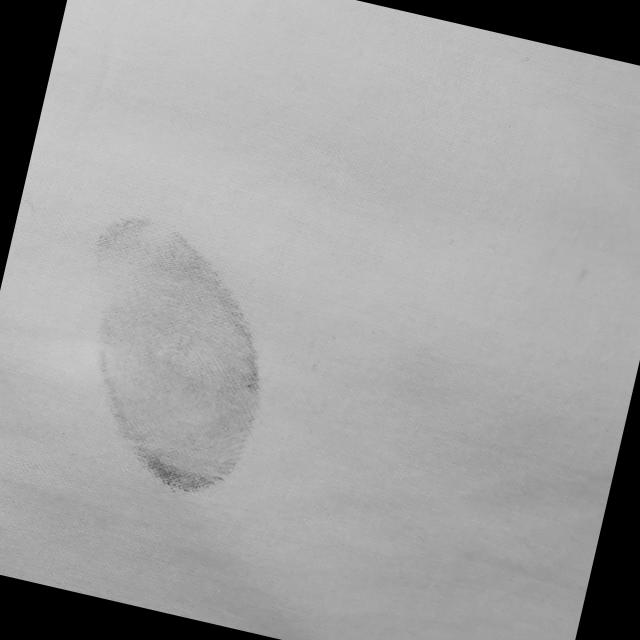Stain: (41, 204, 294, 504)
